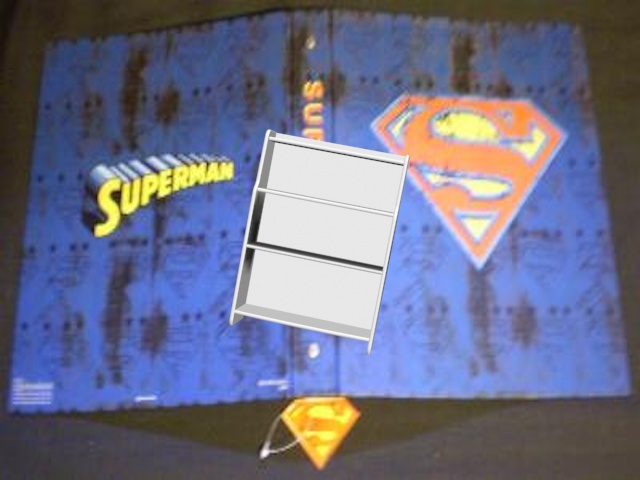bookcase: (225, 129, 416, 360)
